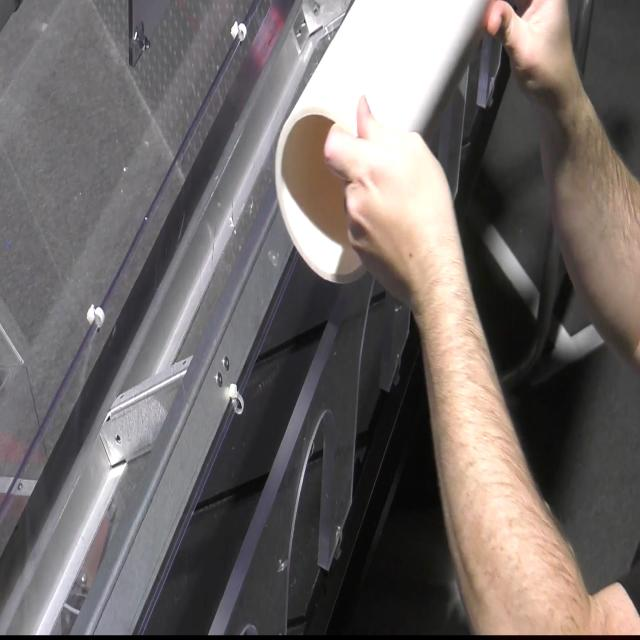Coral: (274, 0, 502, 286)
